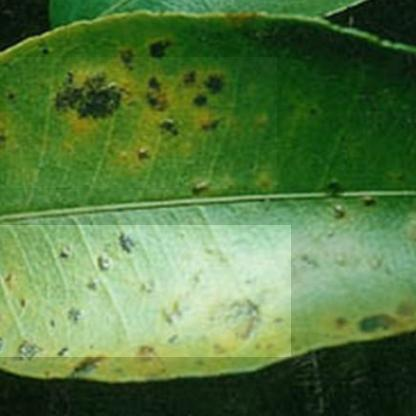black-spot: (0, 225, 291, 357), (6, 57, 277, 188)
